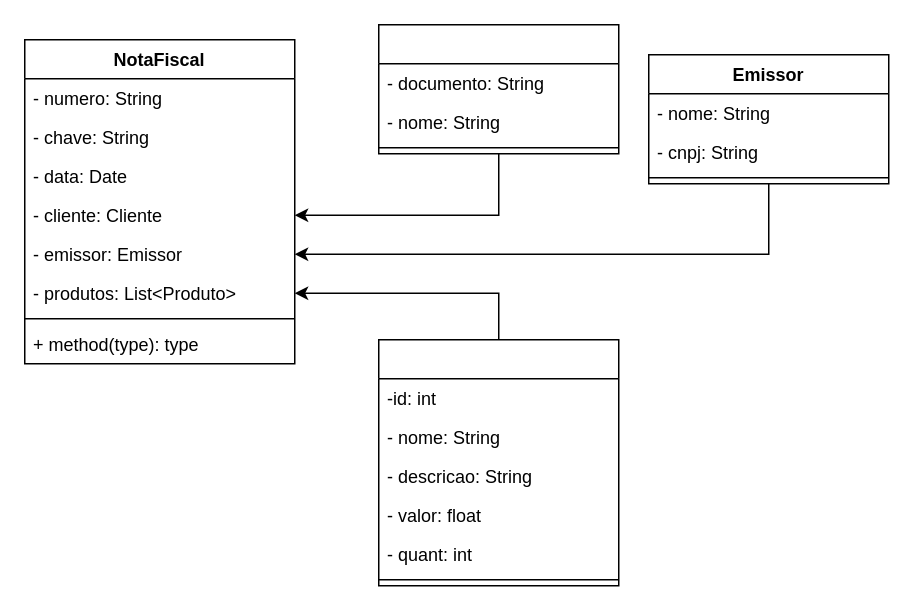
Image size: 914x611. Some labels were removed from this diagram. Here are the shapes that lost their labels. From the top down, the box of each, then its label:
(377, 23, 619, 154): Clente
(377, 338, 619, 586): Produto
